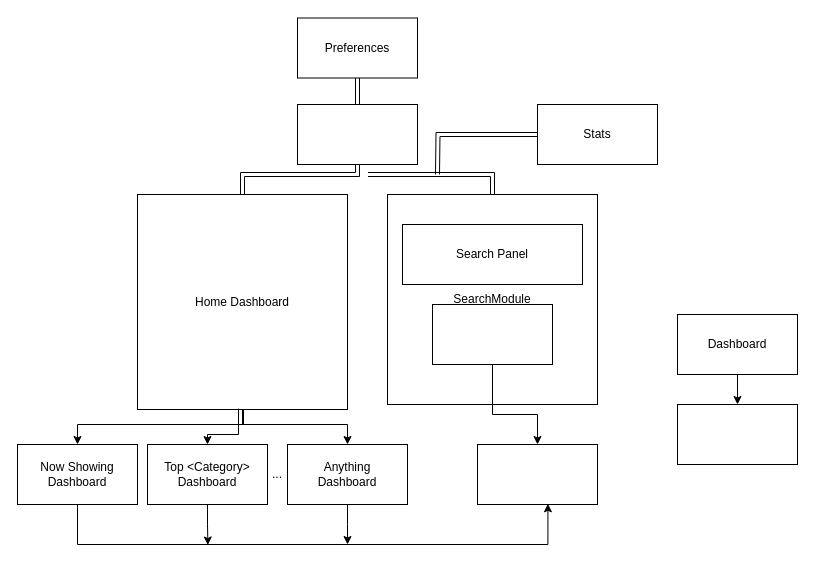
This 815x570 diagram has some shape labels left out. Here are the shapes that lost their labels. From the top down, the centre of each, then its label:
At point (357, 134): "Navigation Panel".
At point (492, 334): "Results-Dashboard".
At point (737, 434): "Bulk Download".
At point (537, 474): "Movie Info/Detail".
